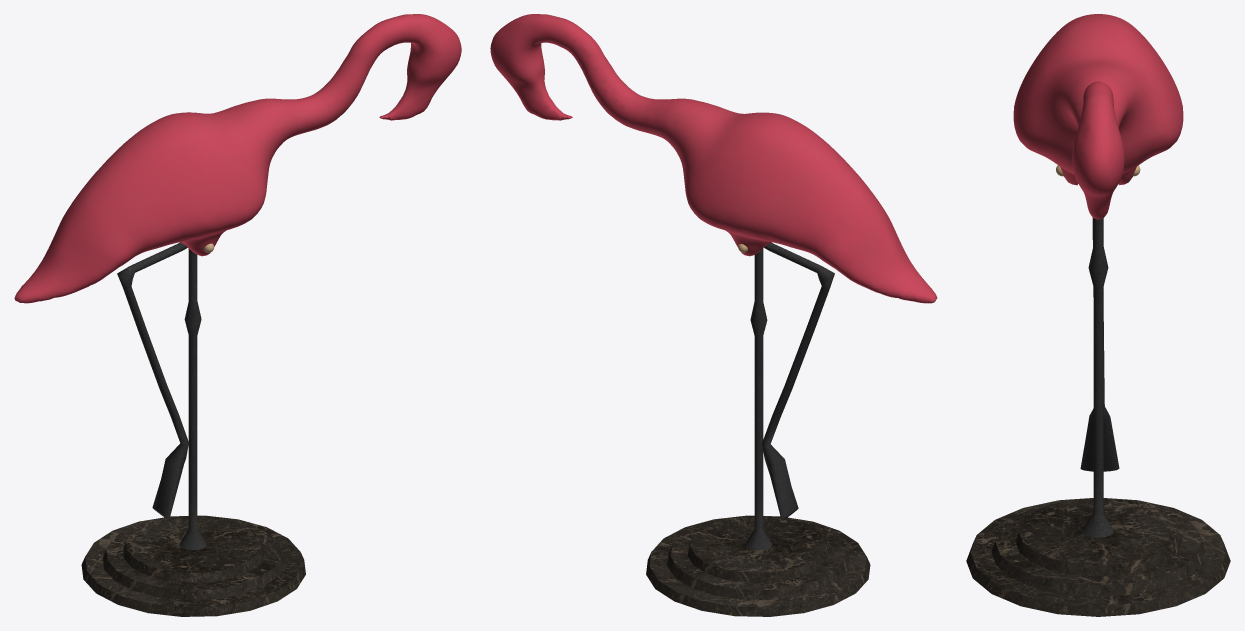
The model's file is flamingo.glb.
3 renders of one model, left to right at view 1: azimuth 30°, elevation 25°; view 2: azimuth 150°, elevation 25°; view 3: azimuth 270°, elevation 25°, orthographic. The views are drawn at different scales.
Parts seen in each view (by area): view 1: adalflamingo_polySurface14; view 2: adalflamingo_polySurface14; view 3: adalflamingo_polySurface14.
Part boxes in pixels (left/top/right/bottom): adalflamingo_polySurface14: left=14, top=14, right=461, bottom=616; adalflamingo_polySurface14: left=490, top=14, right=937, bottom=616; adalflamingo_polySurface14: left=966, top=14, right=1230, bottom=616.
Bounding box in the file's own units: 0.4736 × 0.5121 × 0.2087.
4 materials, 4 textured.
